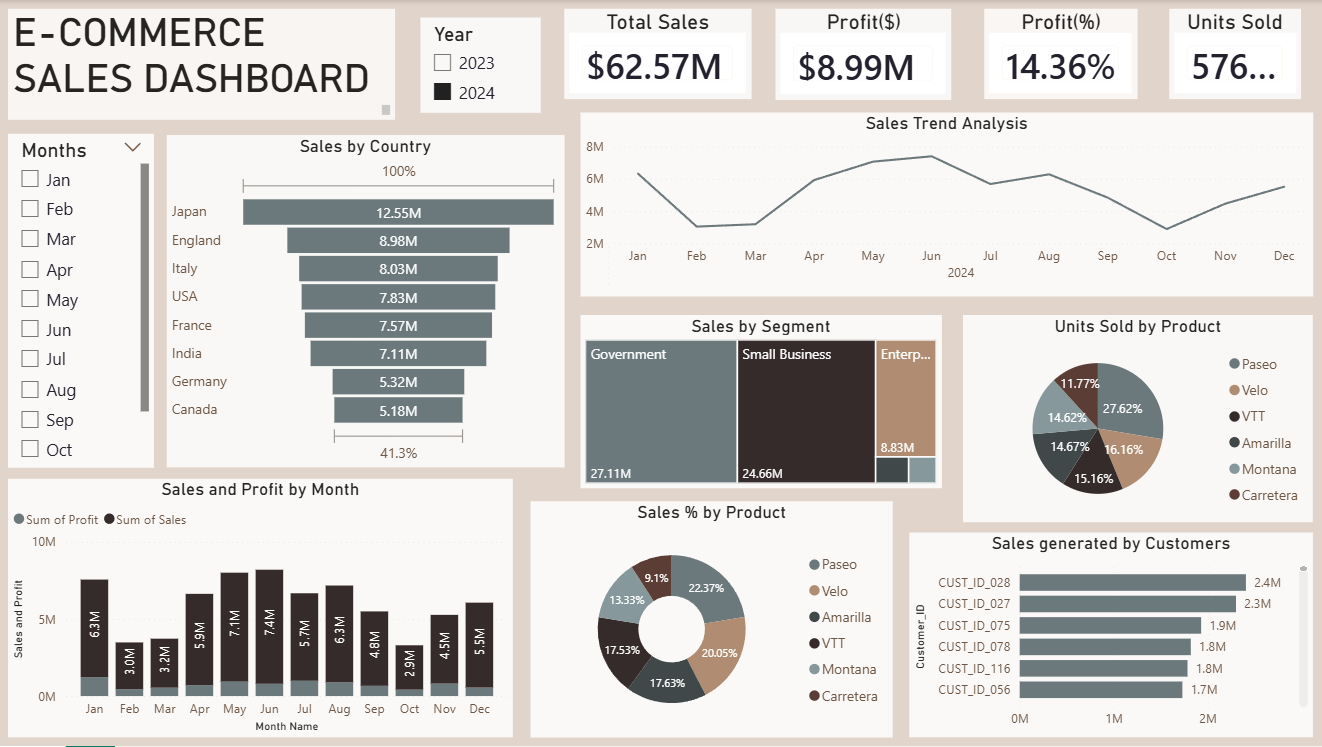

The page's visual inventory and layout, read from the dashboard file:
{"tool":"powerbi","page":{"name":"Page 1","canvas":[1280,720],"ordinal":0},"visuals":[{"type":"cardVisual","title":"Total Sales","fields":{"Data":["Sum(Sales Data.Sales)"]},"box":[546.6,8.6,181,86.8],"z":0},{"type":"cardVisual","title":"Profit($)","fields":{"Data":["Sum(Sales Data.Profit)"]},"box":[750.8,8.6,170,88],"z":1000},{"type":"cardVisual","title":"Units Sold","fields":{"Data":["Sum(Sales Data.Units Sold)"]},"box":[1129.9,8.6,127.2,86.8],"z":2000},{"type":"cardVisual","title":"Profit(%)","fields":{"Data":["Sales Data.Profit%"]},"box":[951.4,8.6,148,86.8],"z":3000},{"type":"donutChart","title":"Sales % by Product","fields":{"Y":["Sum(Sales Data.Sales)"],"Category":["Sales Data.Product_Name"]},"box":[513.9,483.8,349.9,228],"z":6000},{"type":"columnChart","title":"Sales and Profit by Month","fields":{"Category":["Sales Data.Month Name"],"Y":["Sum(Sales Data.Profit)","Sum(Sales Data.Sales)"]},"box":[9.7,462.1,487.4,249.7],"z":7000},{"type":"treemap","title":" Sales by Segment","fields":{"Group":["Sales Data.Segment"],"Values":["Sum(Sales Data.Sales)"]},"box":[562.5,304.5,348.5,167.5],"z":8000},{"type":"lineChart","title":"Sales Trend Analysis","fields":{"Y":["Sum(Sales Data.Sales)"],"Category":["Sales Data.Date.Variation.Date Hierarchy.Year","Sales Data.Month Name"]},"box":[562.2,108.6,707,177.3],"z":8001},{"type":"slicer","fields":{"Values":["Sales Data.Year"]},"box":[407.2,17.1,116.2,91.7],"z":8002},{"type":"clusteredBarChart","title":" Sales generated by Customers","fields":{"Category":["Sales Data.Customer_ID"],"Y":["Sum(Sales Data.Sales)"]},"box":[879.5,513.9,389.7,197.9],"z":8005},{"type":"slicer","fields":{"Values":["Sales Data.Month Name"]},"box":[9.7,129.1,141.2,322.1],"z":8007},{"type":"textbox","title":"E-COMMERCE                      SALES DASHBOARD","box":[9.7,8.4,374,107.4],"z":8008},{"type":"pieChart","title":"Units Sold by Product ","fields":{"Category":["Sales Data.Product_Name"],"Y":["Sum(Sales Data.Units Sold)"]},"box":[931.4,304,337.8,200.3],"z":8009},{"type":"funnel","title":"Sales by Country","fields":{"Category":["Sales Data.Country"],"Y":["Sum(Sales Data.Sales)"]},"box":[162.9,130.3,383.6,320.9],"z":8010}]}

Visuals, with their boxes in screenshot pixels (x1, y1, x2, y2), scaled from the page's 1280x720 canvas onto the 1322x747 screenshot:
"Total Sales" cardVisual: [565,9,751,99]
"Profit($)" cardVisual: [775,9,951,100]
"Units Sold" cardVisual: [1167,9,1298,99]
"Profit(%)" cardVisual: [983,9,1135,99]
"Sales % by Product" donutChart: [531,502,892,738]
"Sales and Profit by Month" columnChart: [10,479,513,738]
" Sales by Segment" treemap: [581,316,941,490]
"Sales Trend Analysis" lineChart: [581,113,1311,297]
slicer - Sales Data.Year: [421,18,541,113]
" Sales generated by Customers" clusteredBarChart: [908,533,1311,738]
slicer - Sales Data.Month Name: [10,134,156,468]
"E-COMMERCE                      SALES DASHBOARD" textbox: [10,9,396,120]
"Units Sold by Product " pieChart: [962,315,1311,523]
"Sales by Country" funnel: [168,135,564,468]
